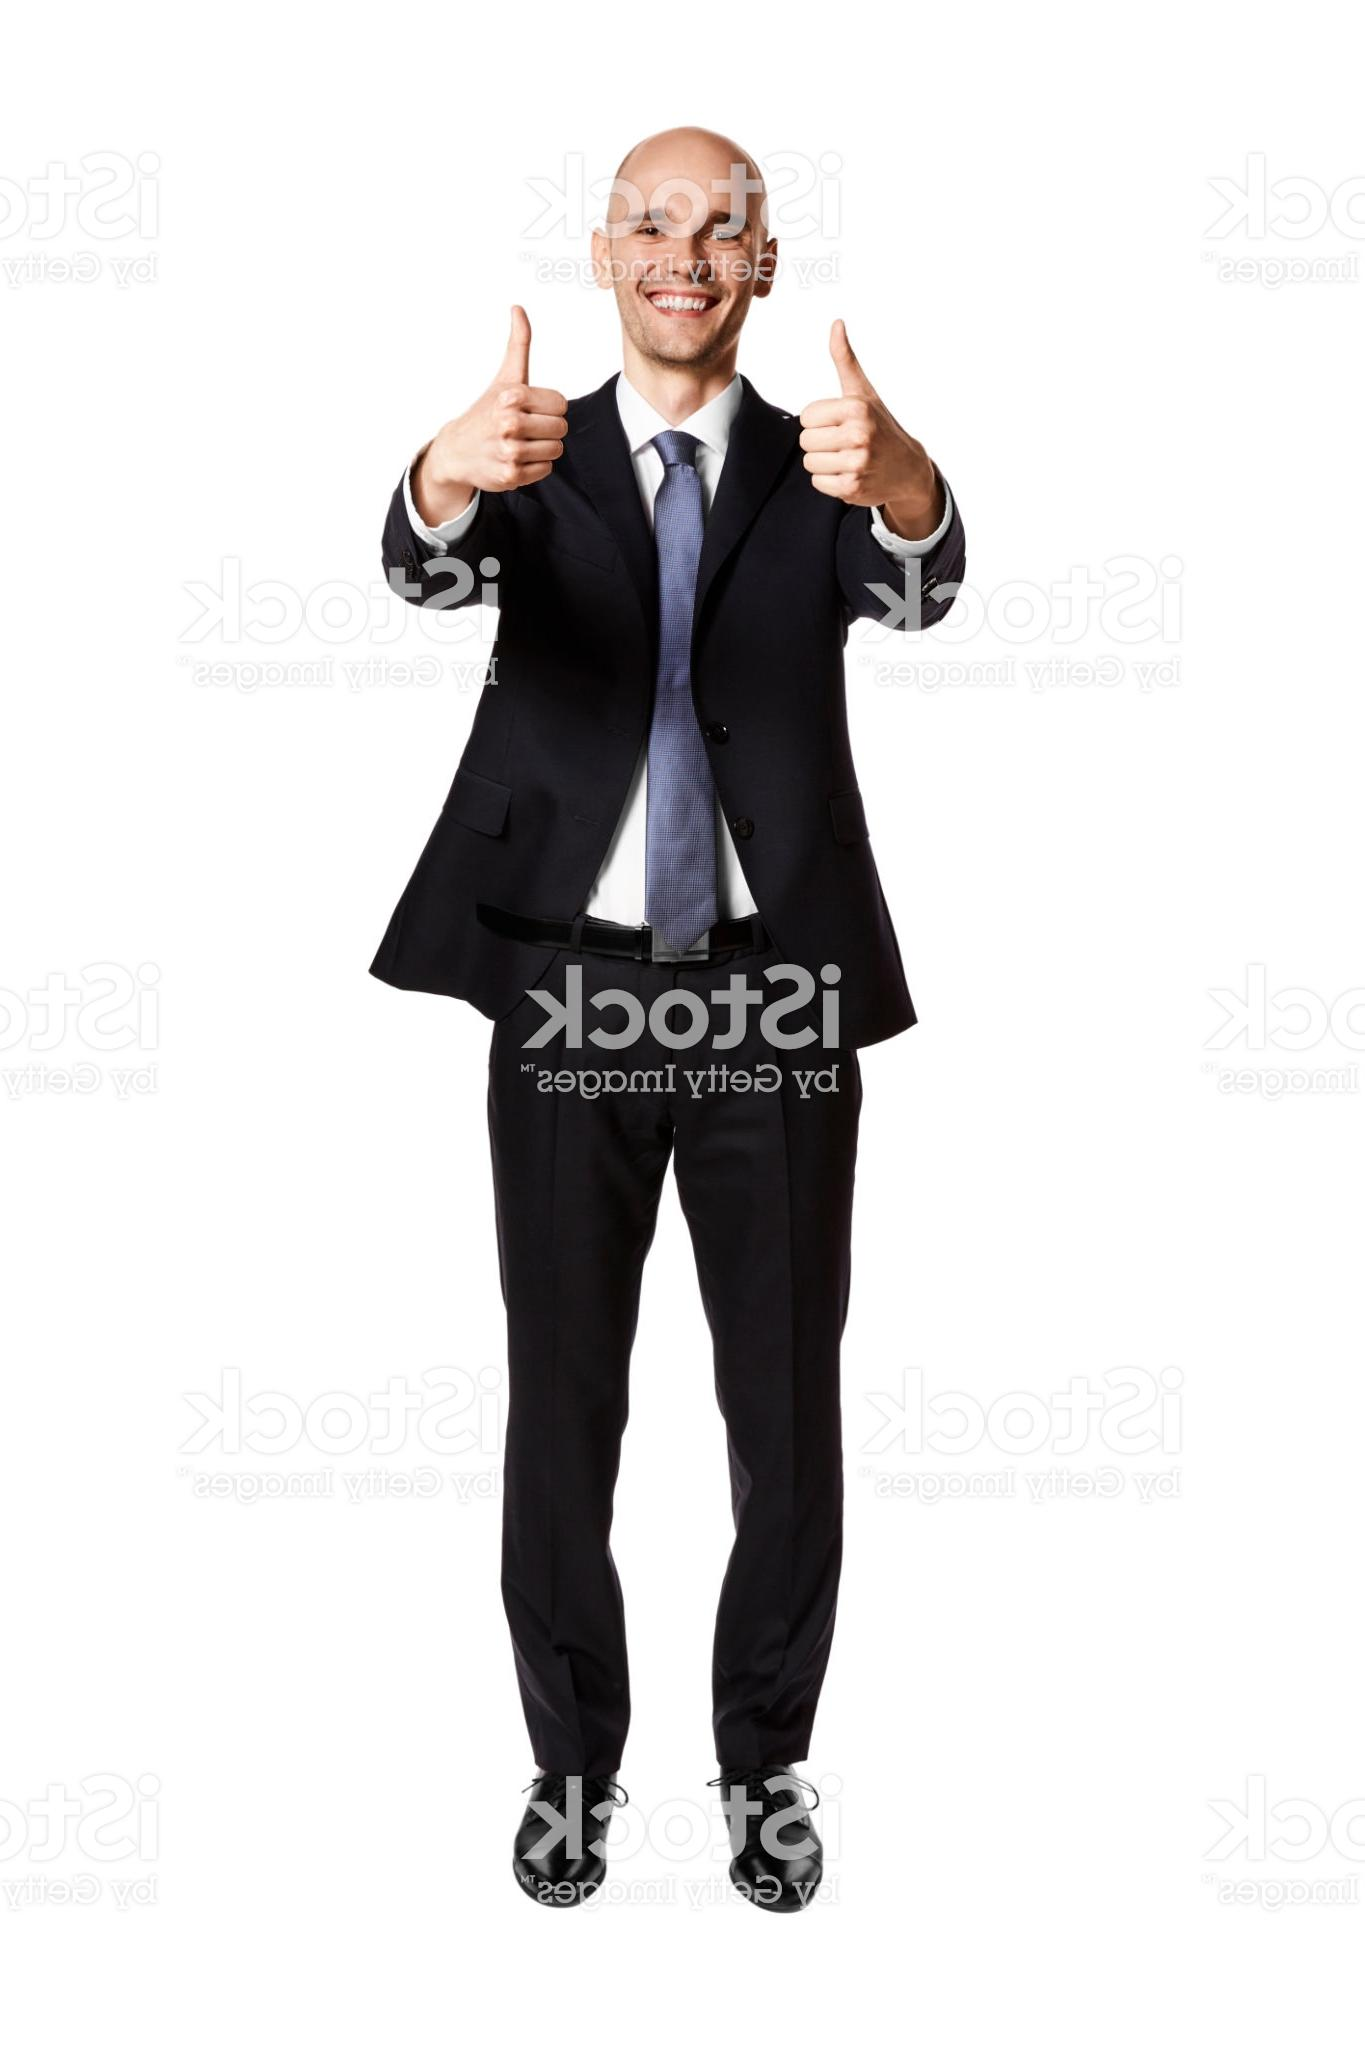thumbsup: (797, 317, 903, 507), (472, 303, 571, 493)
